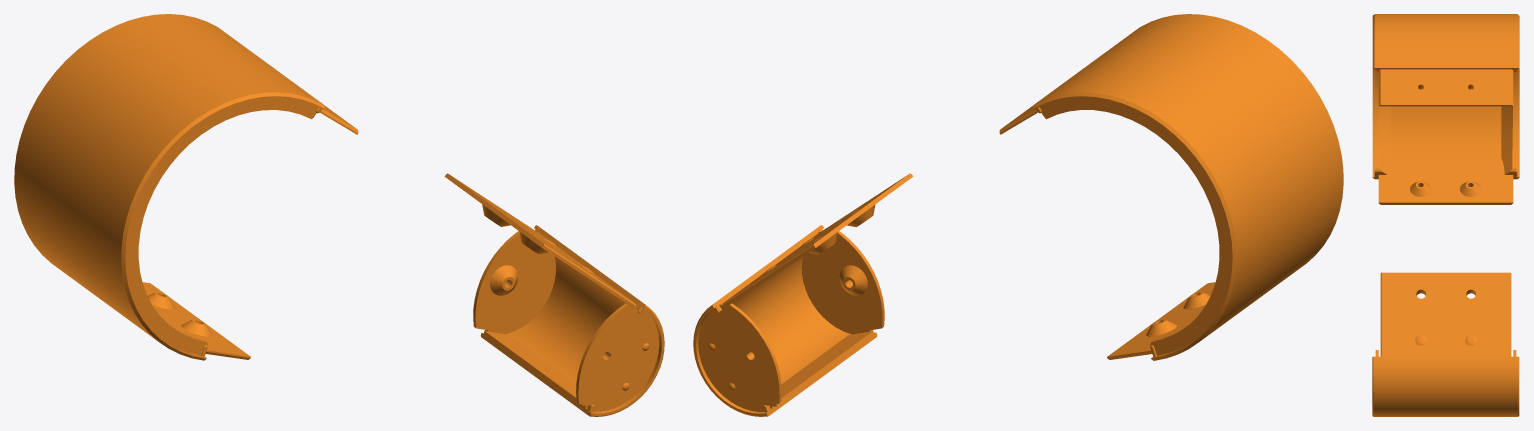
The model's file is ArmRightPlastic.dae.
3 views of the same model, side by side, from view 1: azimuth 30°, elevation 25°; view 2: azimuth 150°, elevation 25°; view 3: azimuth 270°, elevation 25° (orthographic). The views are drawn at different scales.
Visible parts, largest first — view 1: PlasticMesh; view 2: PlasticMesh; view 3: PlasticMesh.
Boxes of the visible parts, x1=… form: PlasticMesh: x1=14, y1=14, x2=664, y2=416; PlasticMesh: x1=693, y1=14, x2=1343, y2=416; PlasticMesh: x1=1372, y1=14, x2=1519, y2=416.
Size of the model in its own units: 0.2097 by 0.0737 by 0.1503.
